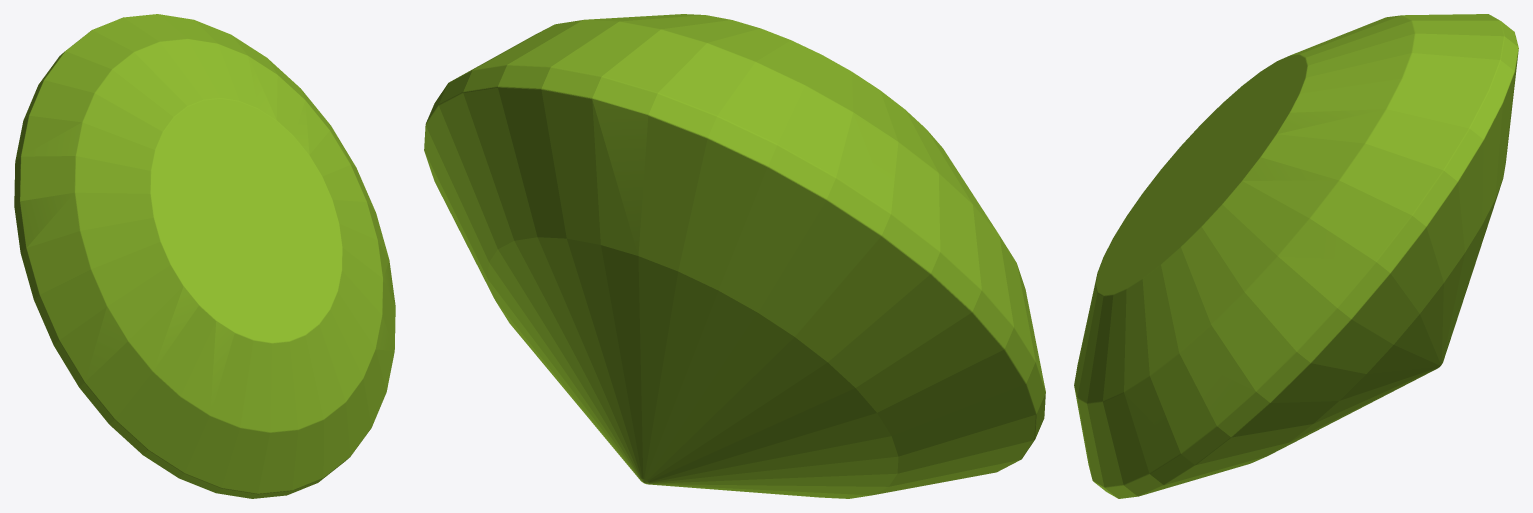
File: peridot.glb
3 views of the same model, side by side, from view 1: azimuth 30°, elevation 25°; view 2: azimuth 150°, elevation 25°; view 3: azimuth 270°, elevation 25° (orthographic). The views are drawn at different scales.
Parts seen in each view (by area): view 1: peridot.001; view 2: peridot.001; view 3: peridot.001.
Boxes of the visible parts, x1=… form: peridot.001: x1=14, y1=14, x2=395, y2=498; peridot.001: x1=424, y1=14, x2=1045, y2=498; peridot.001: x1=1074, y1=14, x2=1518, y2=498.
Bounding box in the file's own units: 1.75 × 1.79 × 1.63.
